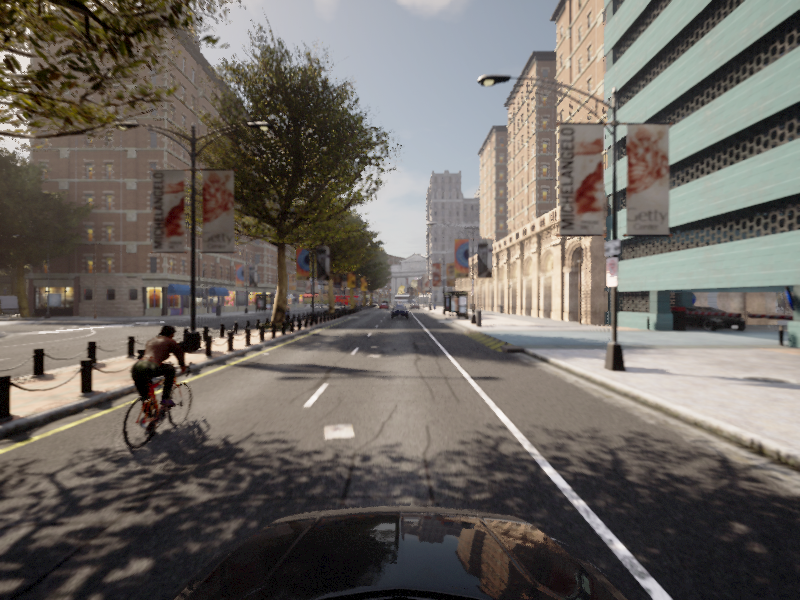vehicle: (99, 323, 208, 458), (391, 305, 408, 318), (280, 303, 293, 319)
